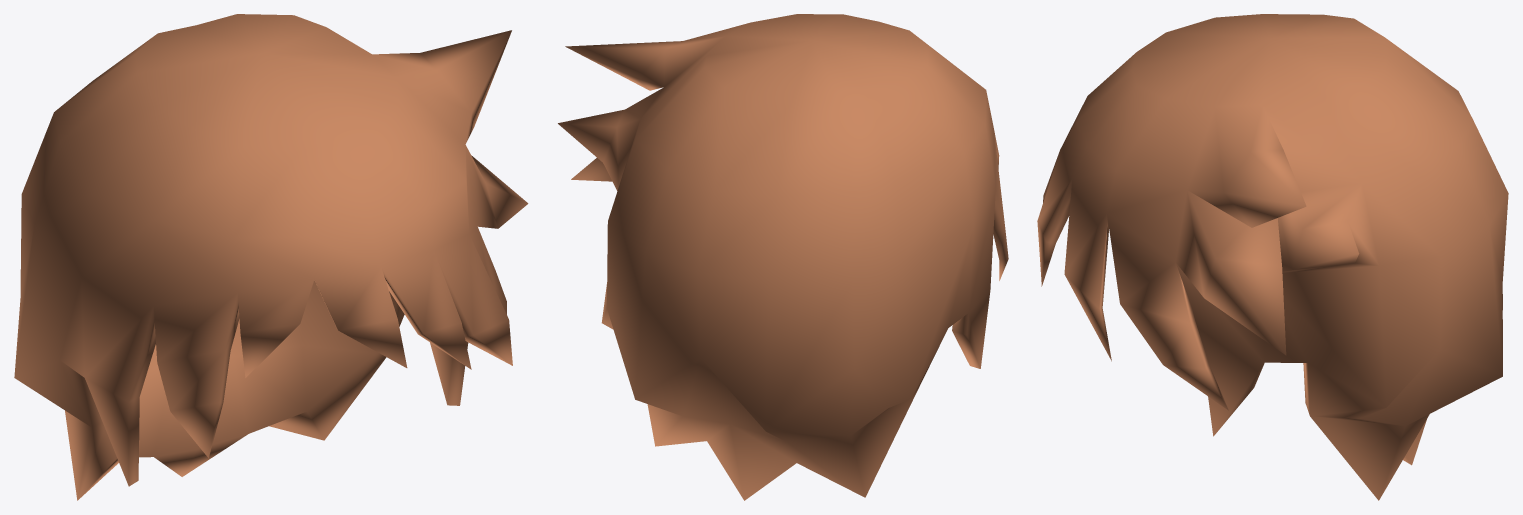
File: ShortMessy.fbx
3 views of the same model, side by side, from view 1: azimuth 30°, elevation 25°; view 2: azimuth 150°, elevation 25°; view 3: azimuth 270°, elevation 25° (orthographic). The views are drawn at different scales.
Parts seen in each view (by area): view 1: 03 Hair - Short Messy; view 2: 03 Hair - Short Messy; view 3: 03 Hair - Short Messy.
Part boxes in pixels (x1,y1,x2,y2): 03 Hair - Short Messy: (14, 14, 528, 500); 03 Hair - Short Messy: (558, 14, 1008, 500); 03 Hair - Short Messy: (1037, 14, 1508, 500).
Bounding box in the file's own units: 0.2672 × 0.2675 × 0.2677.
